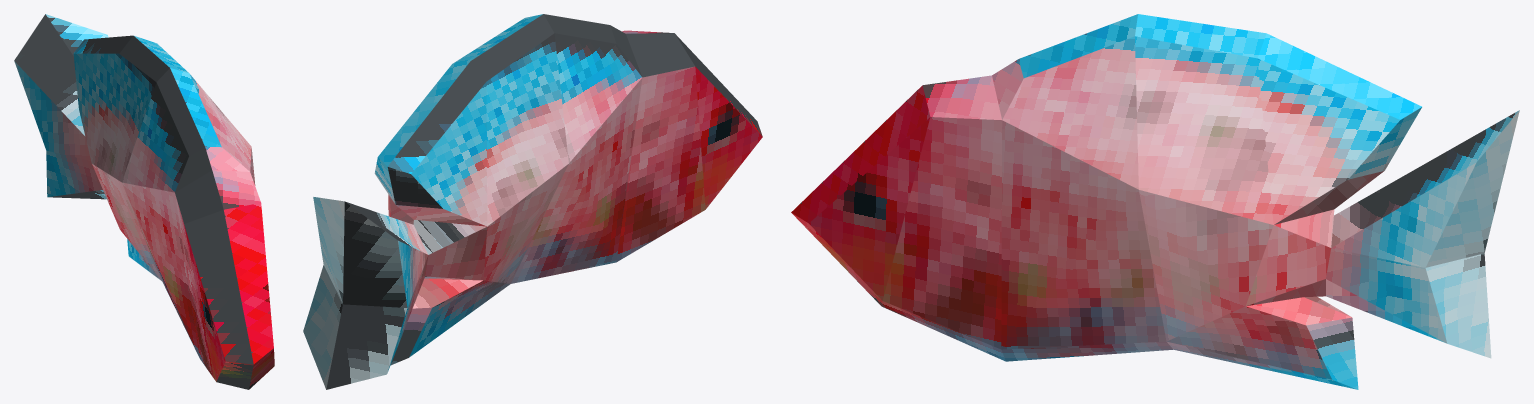
Rendered from pile-fish.glb.
3 views of the same model, side by side, from view 1: azimuth 30°, elevation 25°; view 2: azimuth 150°, elevation 25°; view 3: azimuth 270°, elevation 25° (orthographic). The views are drawn at different scales.
Parts seen in each view (by area): view 1: pile-fish; view 2: pile-fish; view 3: pile-fish.
Part boxes in pixels (x1=…): pile-fish: x1=14, y1=14, x2=274, y2=389; pile-fish: x1=303, y1=14, x2=762, y2=389; pile-fish: x1=791, y1=14, x2=1519, y2=389.
Size of the model in its own units: 0.1413 by 0.2237 by 0.4354.
Materials: 1 (1 with a texture image).
